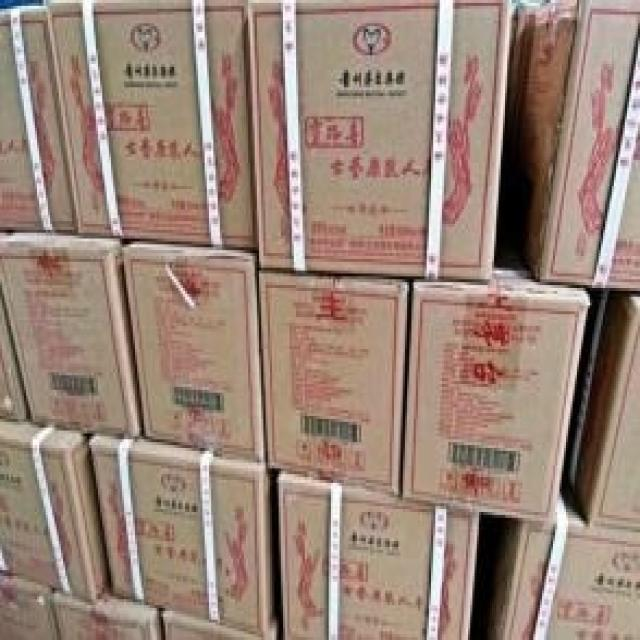box: (248, 0, 512, 282), (401, 227, 590, 524), (46, 0, 257, 250), (503, 0, 640, 291), (89, 431, 276, 640), (276, 468, 481, 640), (259, 268, 409, 495), (122, 239, 266, 463), (0, 233, 144, 439), (481, 477, 640, 640), (0, 416, 109, 605), (564, 288, 640, 529), (0, 6, 76, 233), (50, 588, 165, 640), (0, 573, 59, 640), (0, 285, 28, 422), (163, 611, 266, 640)
